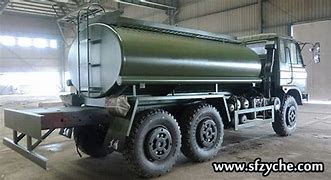oil truck: (59, 0, 320, 172)
